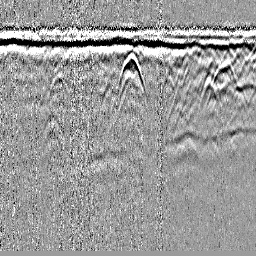cavity: (118, 52, 148, 101)
